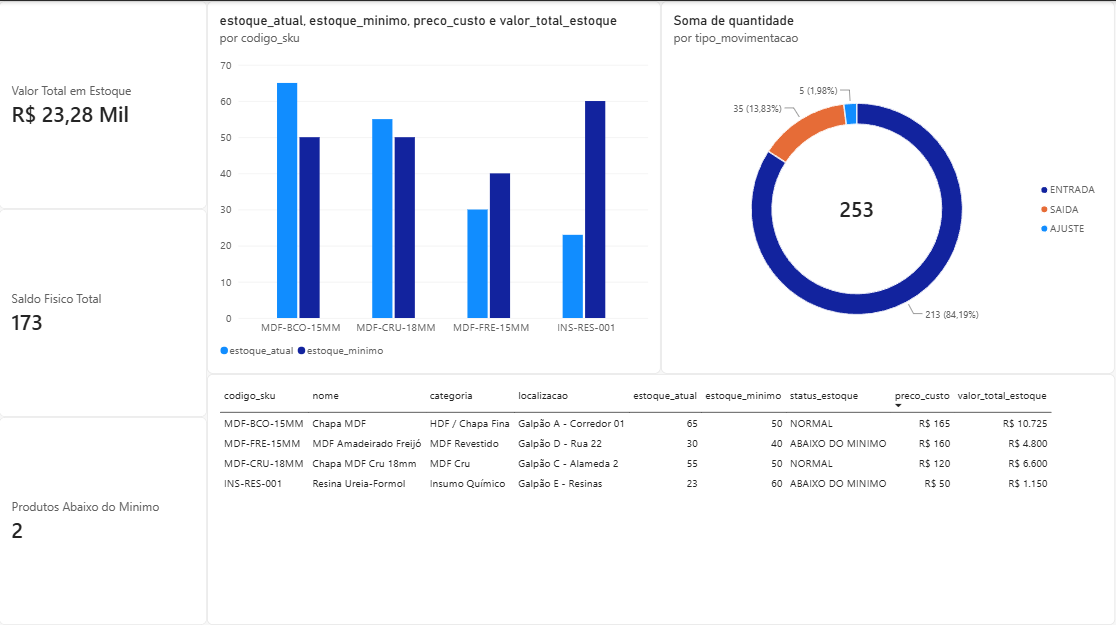

The dashboard page shown, as its layout file describes it:
{"tool":"powerbi","page":{"name":"Dashboard","canvas":[1920,1080],"ordinal":0},"visuals":[{"type":"cardVisual","fields":{"Data":["produtos.Valor Total em Estoque"]},"box":[0,0,280,280],"z":0},{"type":"cardVisual","fields":{"Data":["produtos.Saldo Fisico Total"]},"box":[0,280.1,280,280],"z":1},{"type":"cardVisual","fields":{"Data":["produtos.Produtos Abaixo do Minimo"]},"box":[0,560.2,280,280],"z":2},{"type":"clusteredColumnChart","fields":{"Category":["produtos.codigo_sku"],"Y":["Sum(produtos.estoque_atual)","Sum(produtos.estoque_minimo)"]},"box":[280.1,0,611.3,501.9],"z":3},{"type":"donutChart","fields":{"Category":["movimentacoes.tipo_movimentacao"],"Y":["Sum(movimentacoes.quantidade)"]},"box":[891.4,0,611.3,501.9],"z":4},{"type":"tableEx","fields":{"Values":["produtos.codigo_sku","produtos.nome","produtos.categoria","produtos.localizacao","produtos.estoque_atual","produtos.estoque_minimo","produtos.status_estoque","produtos.preco_custo","produtos.valor_total_estoque"]},"box":[280.1,501.9,1222.6,338.5],"z":5}]}

Visuals, with their boxes in screenshot pixels (x1, y1, x2, y2), scaled from the page's 1920x1080 canvas onto the 1116x625 screenshot:
cardVisual - produtos.Valor Total em Estoque: crop(0, 0, 163, 162)
cardVisual - produtos.Saldo Fisico Total: crop(0, 162, 163, 324)
cardVisual - produtos.Produtos Abaixo do Minimo: crop(0, 324, 163, 486)
clusteredColumnChart - produtos.codigo_sku x Sum(produtos.estoque_atual): crop(163, 0, 518, 290)
donutChart - movimentacoes.tipo_movimentacao x Sum(movimentacoes.quantidade): crop(518, 0, 873, 290)
tableEx - produtos.codigo_sku x produtos.nome: crop(163, 290, 873, 486)
